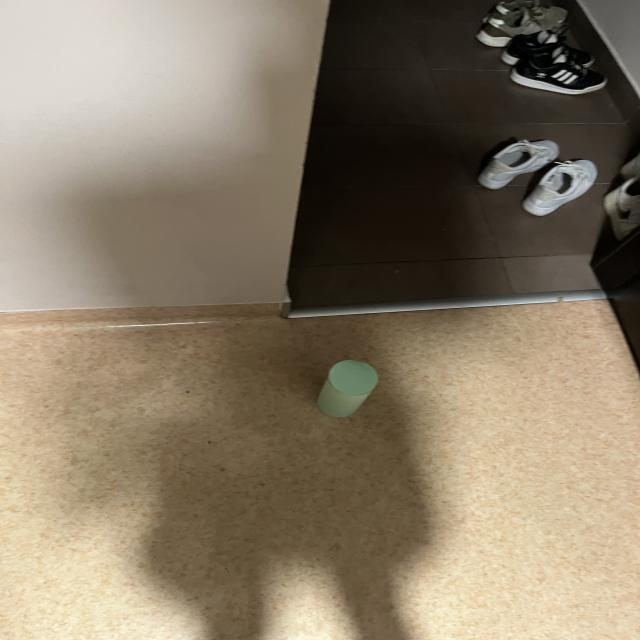meta: (317, 360, 378, 417)
